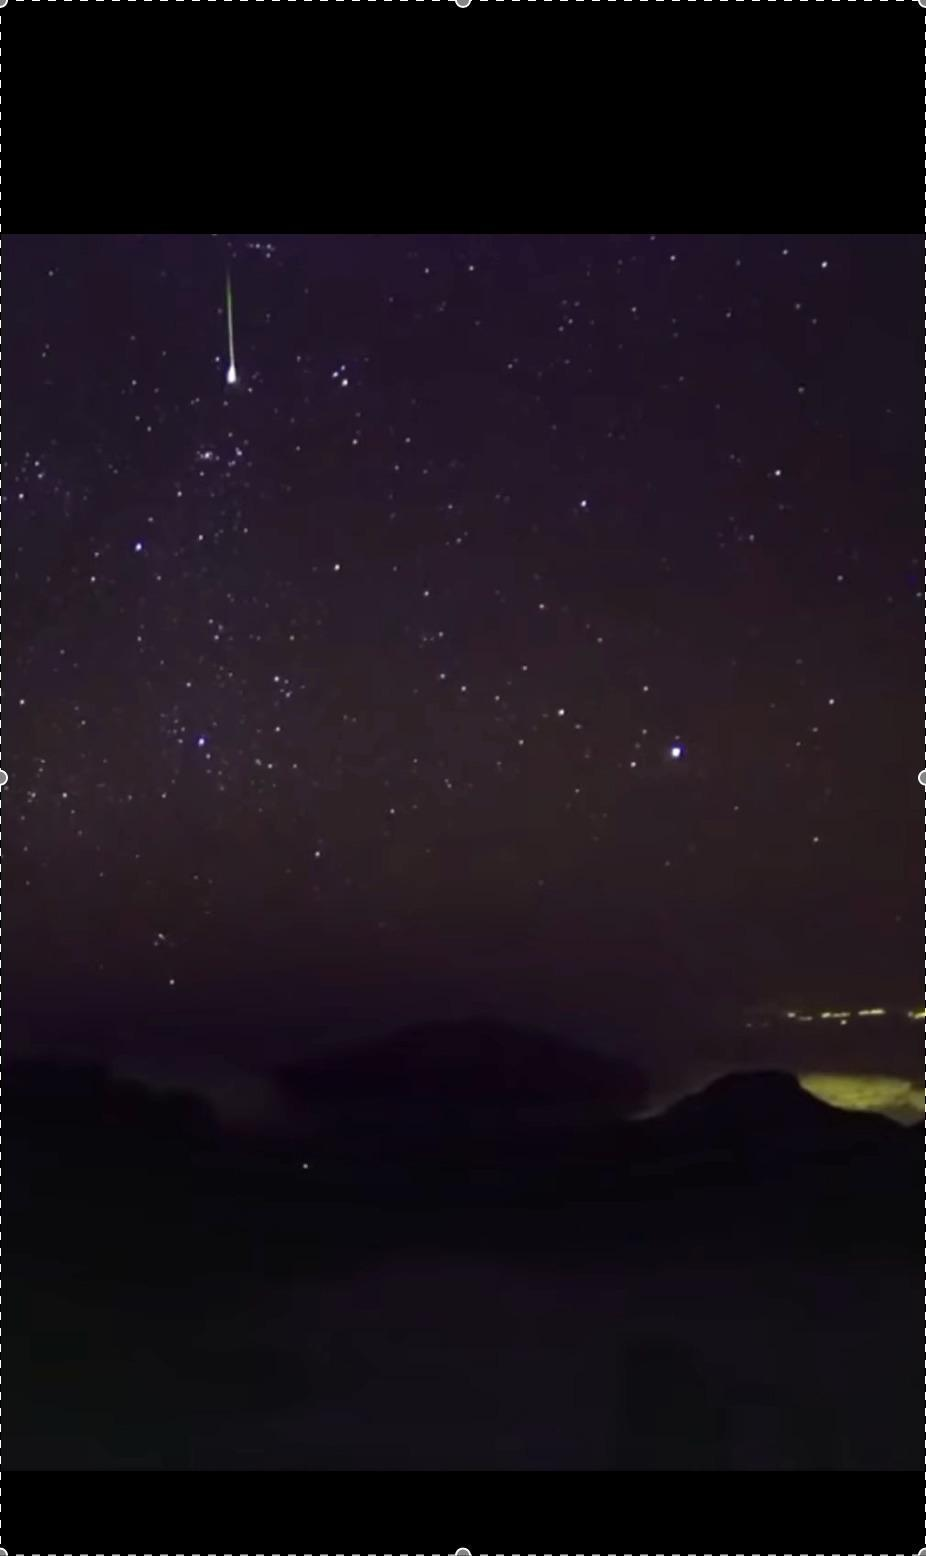meteorite: (201, 252, 254, 383)
